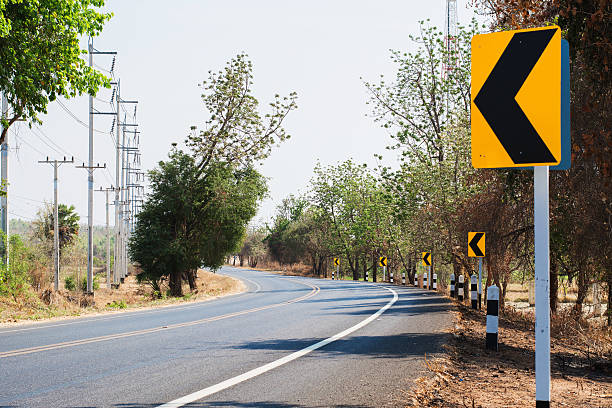left turn: (472, 30, 560, 163), (467, 232, 485, 257), (422, 252, 431, 266), (379, 256, 387, 266), (332, 256, 340, 265)
